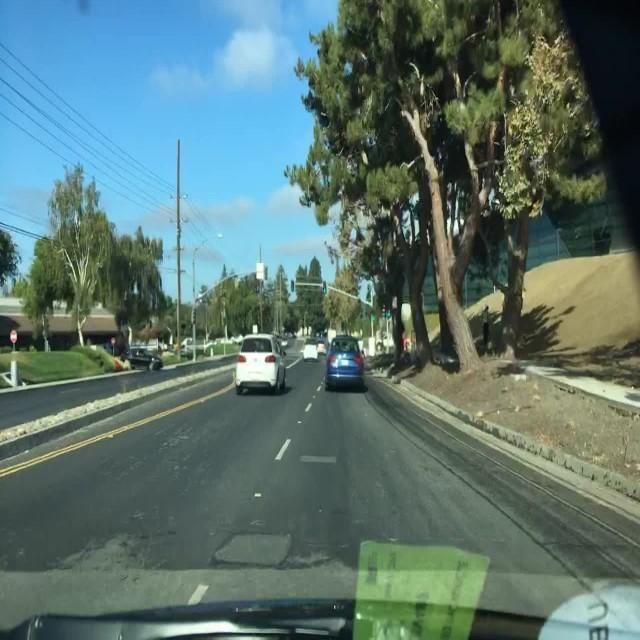normal: (212, 319, 400, 429)
